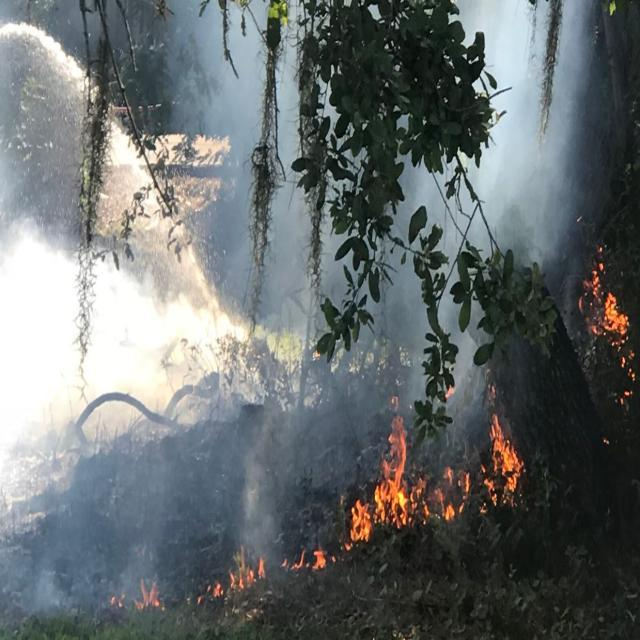Fire: (578, 243, 636, 405), (373, 395, 410, 528), (478, 413, 524, 515), (409, 466, 470, 524), (230, 542, 266, 588), (347, 500, 372, 551), (280, 548, 327, 572), (134, 577, 166, 610), (198, 583, 224, 606), (112, 589, 128, 615), (440, 386, 456, 400)
Smoke: (482, 2, 525, 243), (170, 0, 220, 129), (240, 406, 280, 558), (525, 139, 571, 261), (556, 0, 590, 137), (215, 47, 259, 151), (274, 190, 310, 316), (24, 557, 76, 618), (120, 524, 166, 588), (453, 337, 474, 383)
